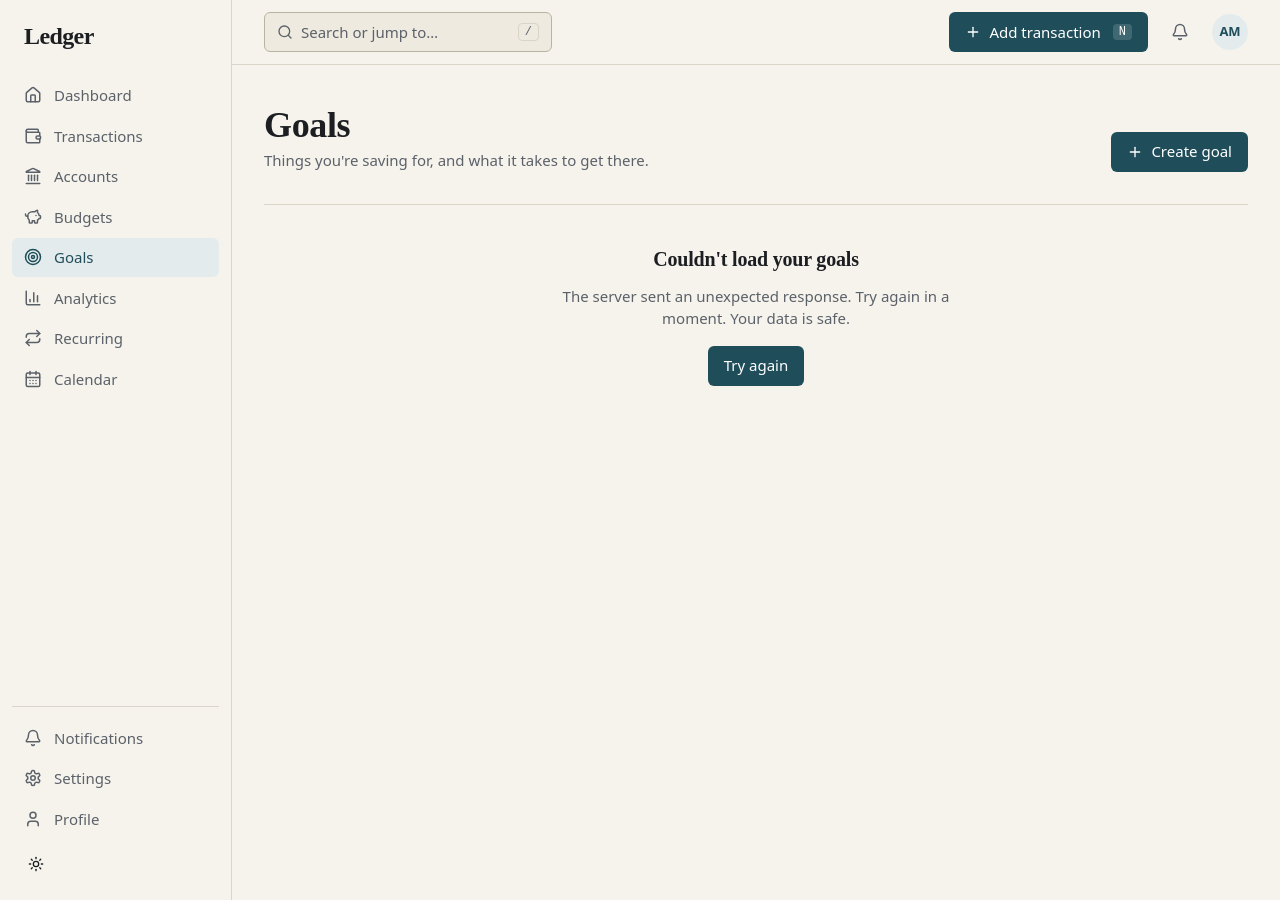
Test case: goals page › offers a retry when loading fails
Expected: the heading "Couldn't load your goals" is shown, 653,244 -> 859,272
Click the button "Try again" at x=756, y=366, box 708,346 -> 804,386
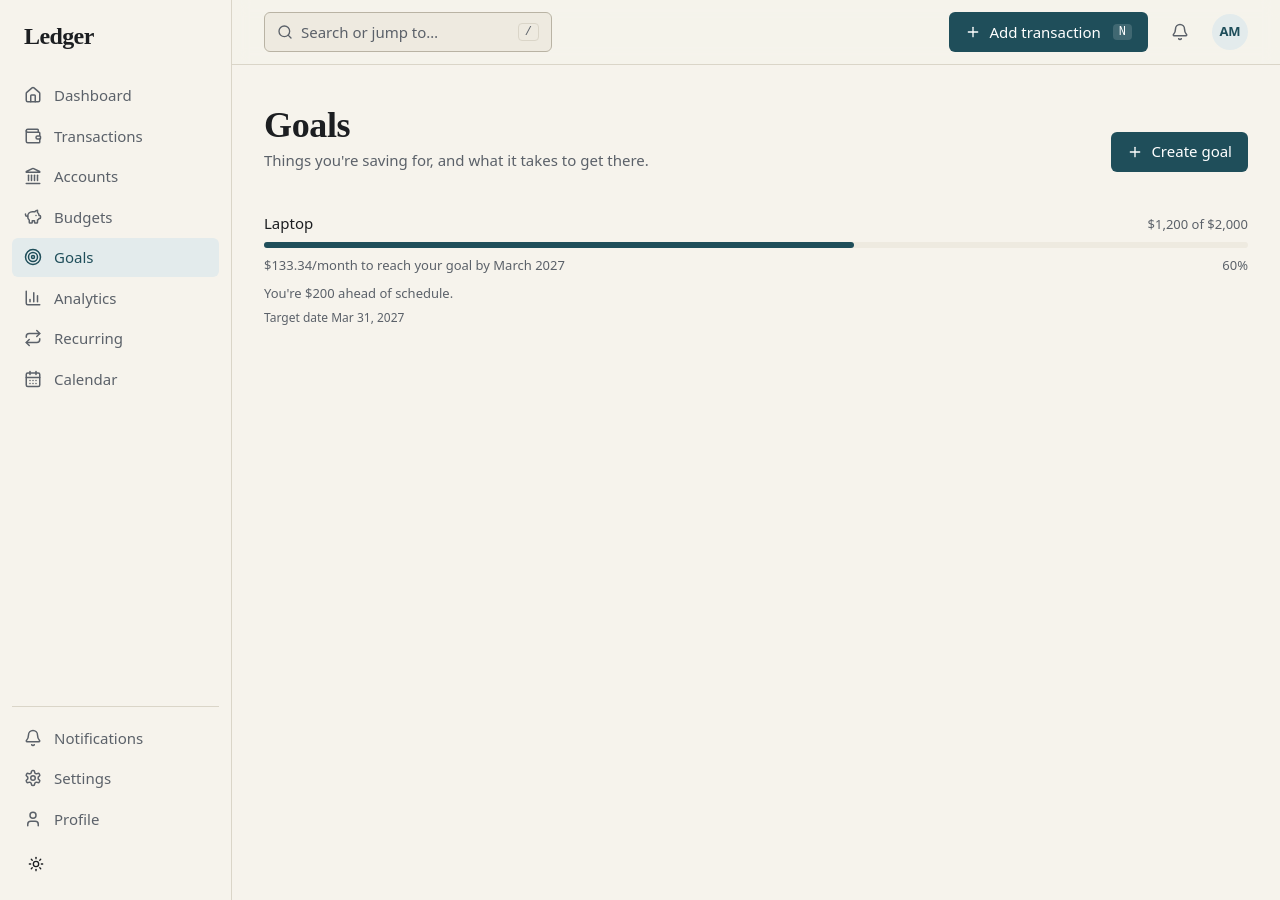
Result: the button with aria-label "Open Laptop goal" is shown at 252,196 -> 1260,343
